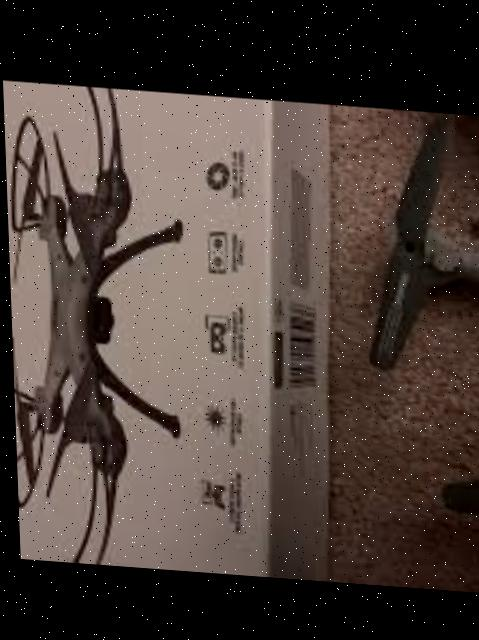drone: (2, 80, 187, 569)
